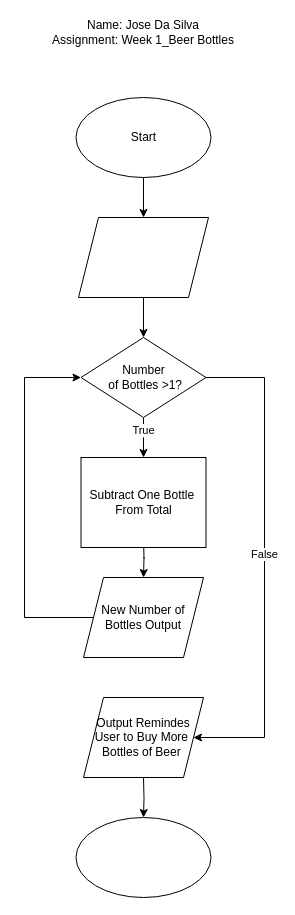
This 295x915 diagram has some shape labels left out. The centre of each missing label's shape, as x and y in pixels:
"Accepts User Input" belongs at (x=143, y=257).
"End" belongs at (x=143, y=857).
